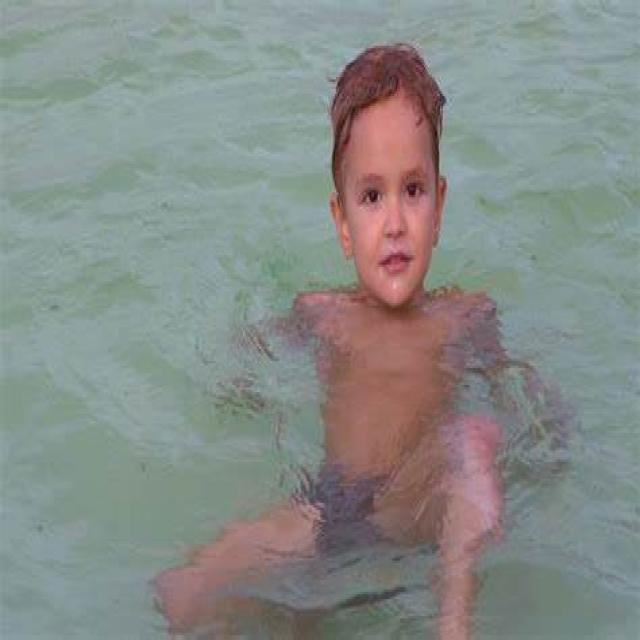swimming: (246, 39, 520, 428)
